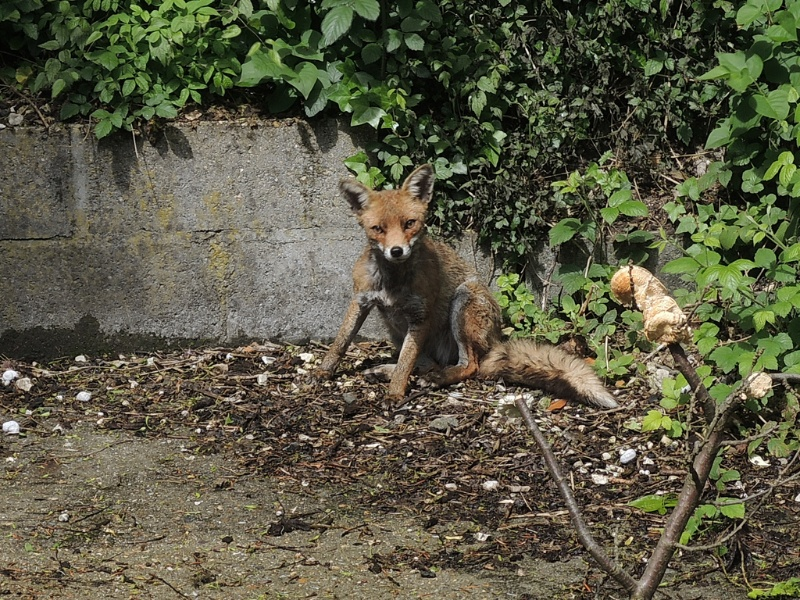fox: (311, 165, 621, 417)
